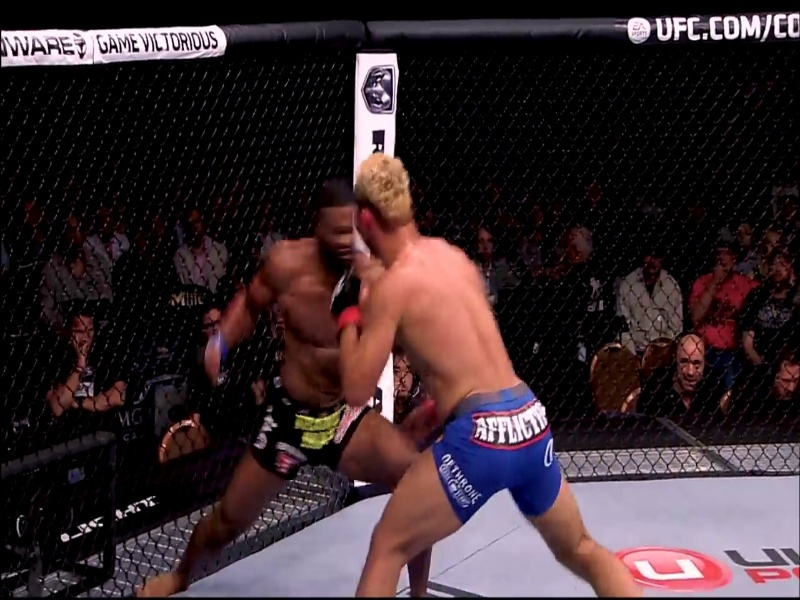fighter: (334, 143, 643, 600), (132, 195, 431, 600)
